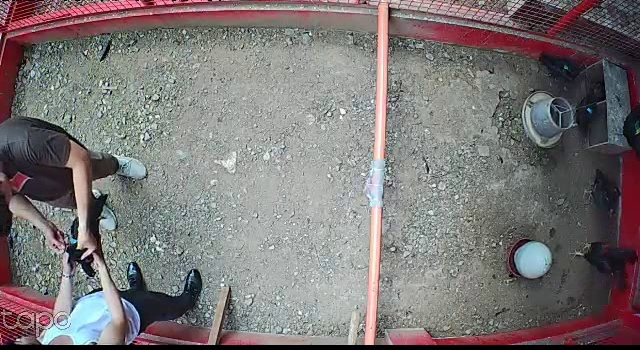Chicken: (580, 165, 622, 220), (611, 98, 640, 171), (535, 54, 589, 84), (569, 87, 601, 136)
Drinker: (504, 235, 556, 279)
Feeder: (522, 90, 577, 152)
Rooster: (564, 234, 640, 278)
Saddle_Color_Blue: (587, 107, 591, 113)
Saddle_Color_YellowGreen: (633, 122, 640, 136)
